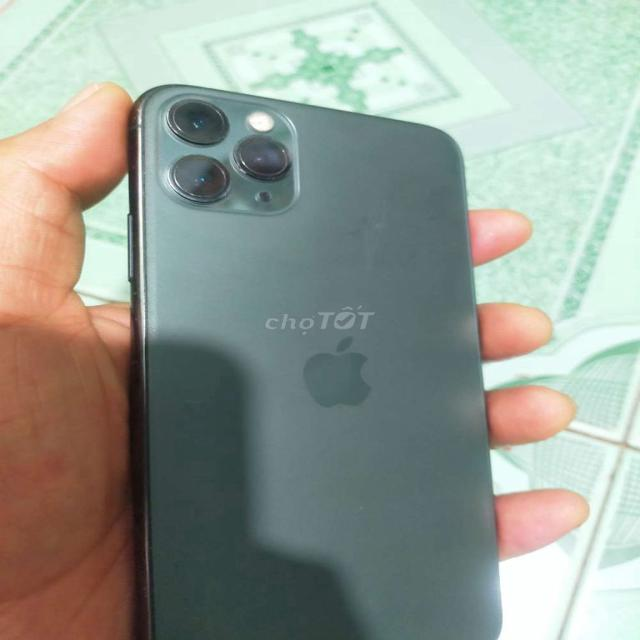gen_11: (128, 85, 501, 639)
